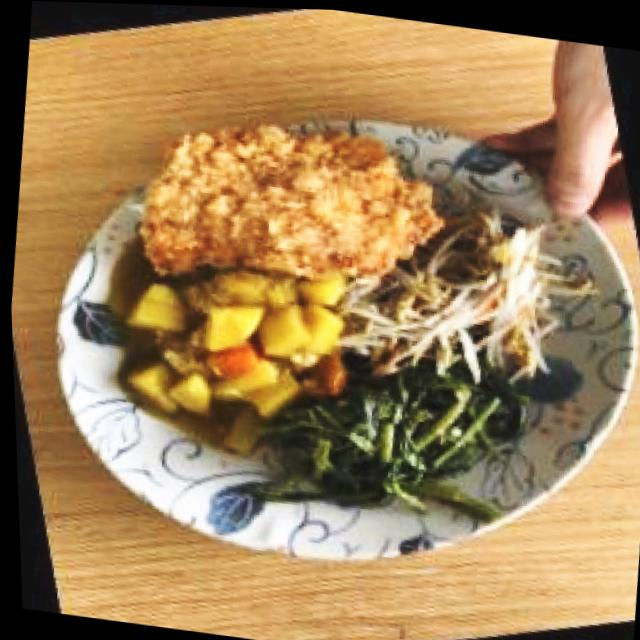curry: (114, 254, 358, 461)
fried_chicken: (131, 100, 452, 311)
mung_bean_sprouts: (359, 197, 590, 390)
water_spinach: (306, 347, 531, 511)
